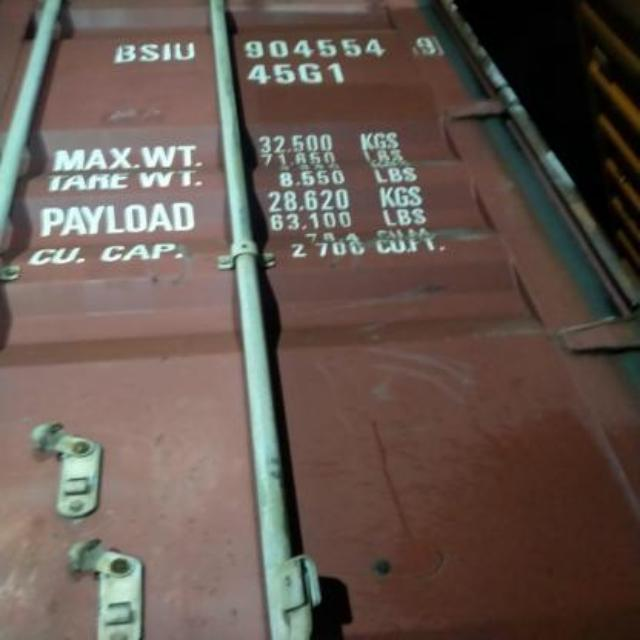0: (268, 32, 288, 58)
4: (362, 26, 390, 58), (288, 30, 312, 60)
5: (338, 26, 362, 58), (314, 30, 336, 60)
9: (414, 31, 442, 60), (242, 34, 262, 61)
B: (112, 38, 134, 66)
I: (158, 36, 172, 64)
S: (136, 36, 160, 66)
U: (170, 36, 194, 62)
